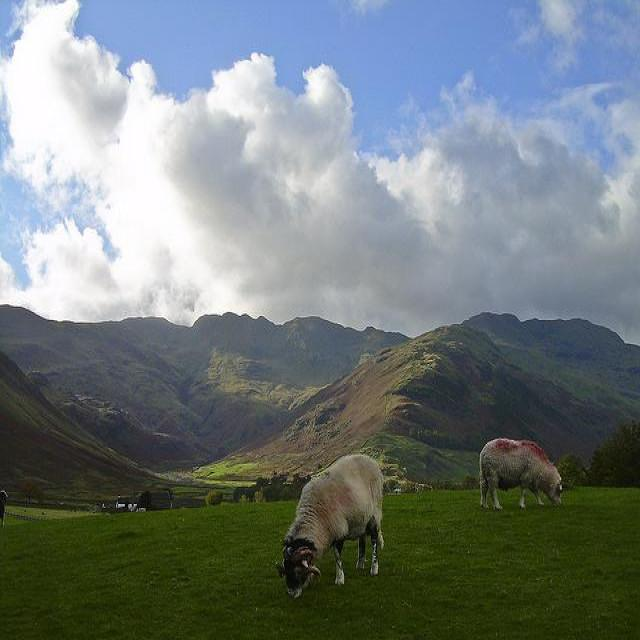Sheep: (275, 452, 382, 603), (479, 439, 564, 512)
